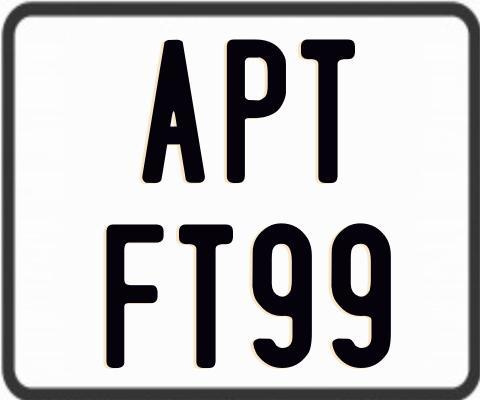9: (252, 223, 317, 373), (331, 222, 397, 369)
A: (142, 37, 209, 181)
F: (106, 224, 164, 369)
P: (227, 36, 292, 184)
T: (298, 36, 355, 183), (176, 224, 231, 369)
